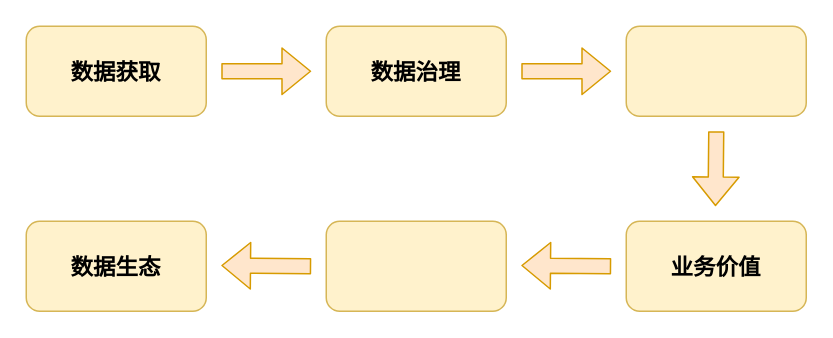
The diagram is 833 pixels wide and 338 high, and some of its shapes have lost their labels. Each missing label, with the centre of its shape:
"数据分析" belongs at point 715,70.
"数据服务" belongs at point 415,265.
